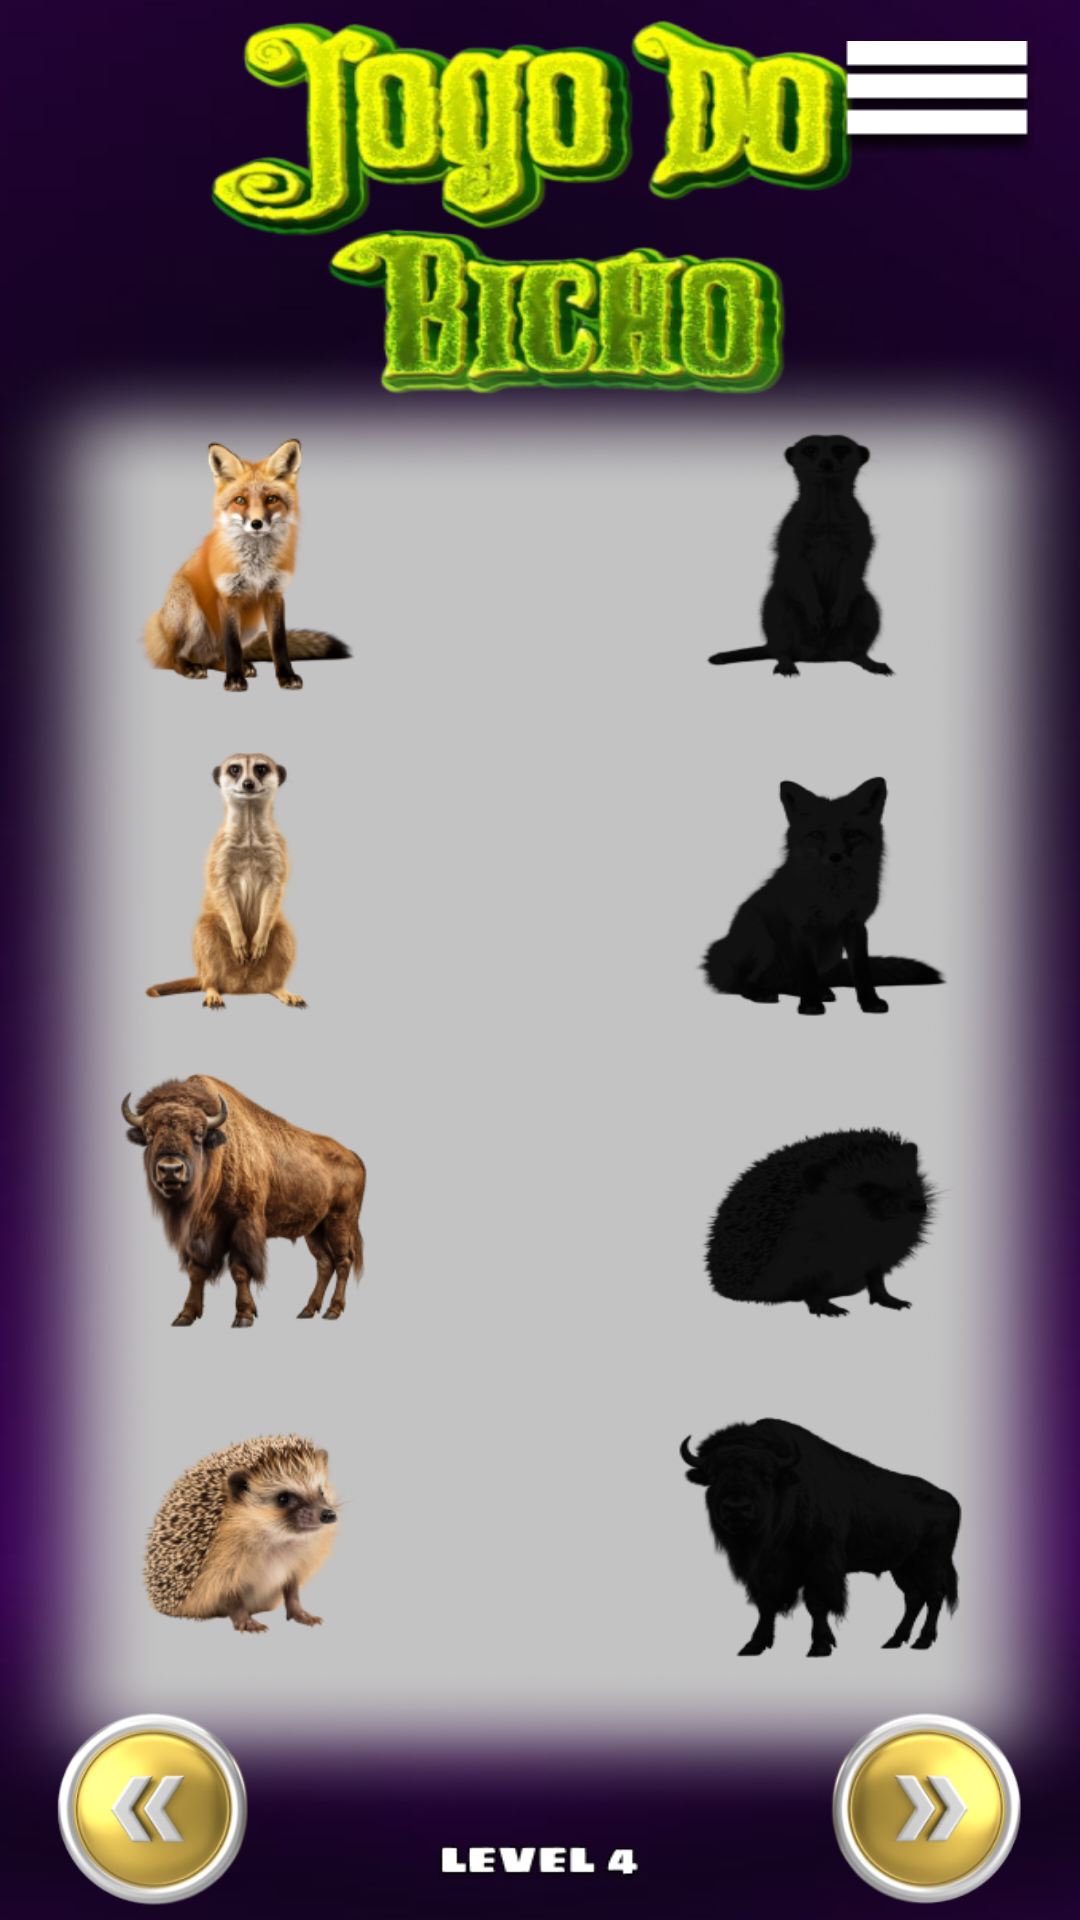

Icon click points for this 1080 × 1920 phone screenshot, format point (x, y):
back tap: point (151, 1809)
next tap: point (928, 1809)
